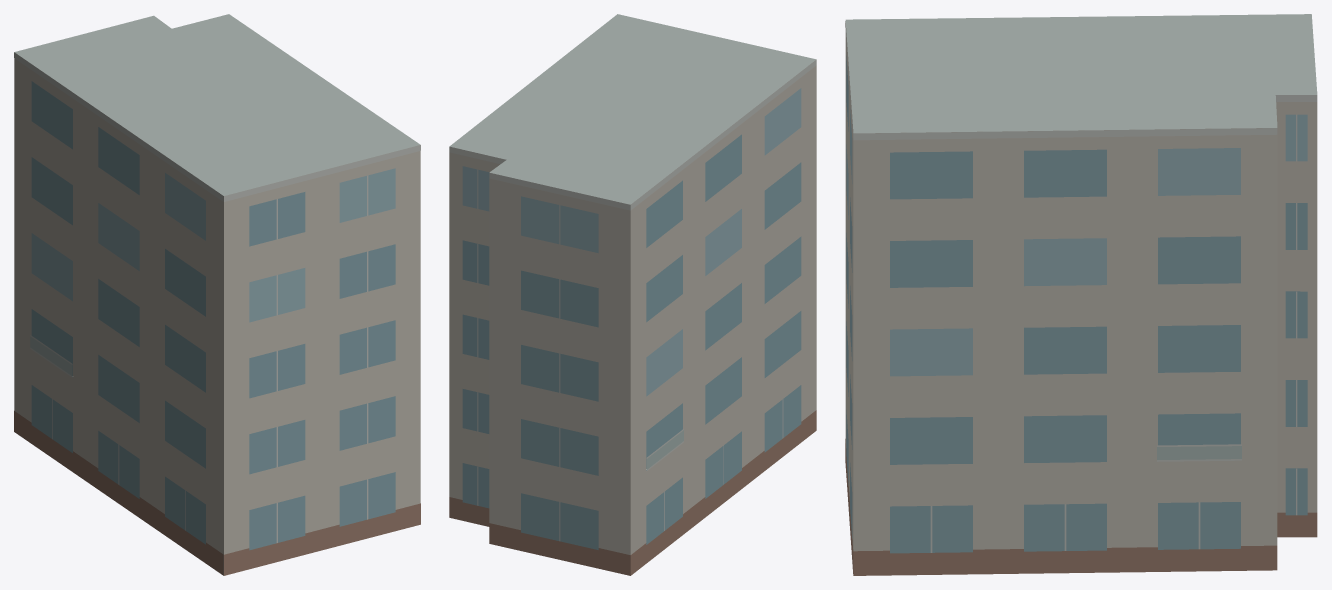
Rendered from survey-upis-32752664.glb.
The picture shows the model from 3 angles, left to right: view 1: azimuth 30°, elevation 25°; view 2: azimuth 150°, elevation 25°; view 3: azimuth 270°, elevation 25°; orthographic projection. The views are drawn at different scales.
Visible parts, largest first — view 1: survey-upis-32752664.tmp; view 2: survey-upis-32752664.tmp; view 3: survey-upis-32752664.tmp.
Boxes of the visible parts, bbox=[...] form: survey-upis-32752664.tmp: bbox=[14, 14, 420, 575]; survey-upis-32752664.tmp: bbox=[449, 14, 816, 575]; survey-upis-32752664.tmp: bbox=[845, 14, 1317, 575].
Size of the model in its own units: 8.98 by 15.5 by 14.99.
